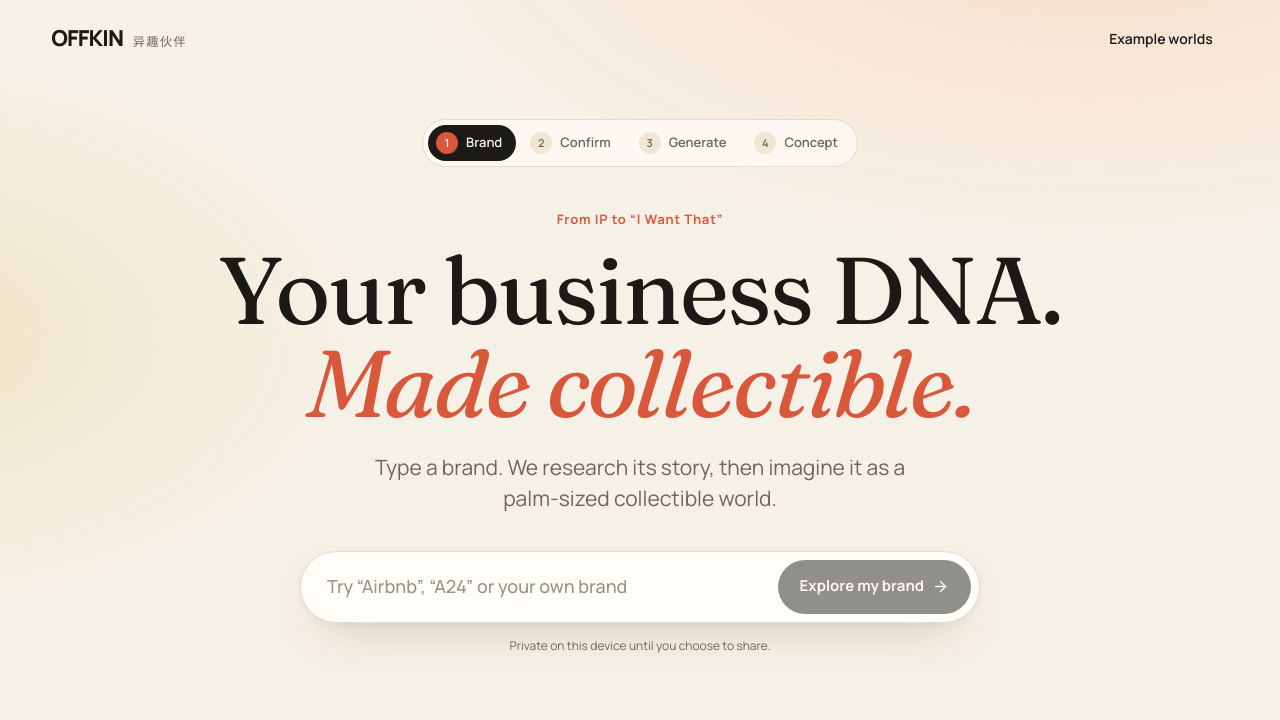
Test: Complete proposal journey › keeps Business story edits creative without silently generating
Later steps or results of the test are not shown.
Type "We create personalised paper gifts" into the text box named "Your brand, website or story". click: (547, 586)
box: top-left (327, 562), bottom-right (768, 611)
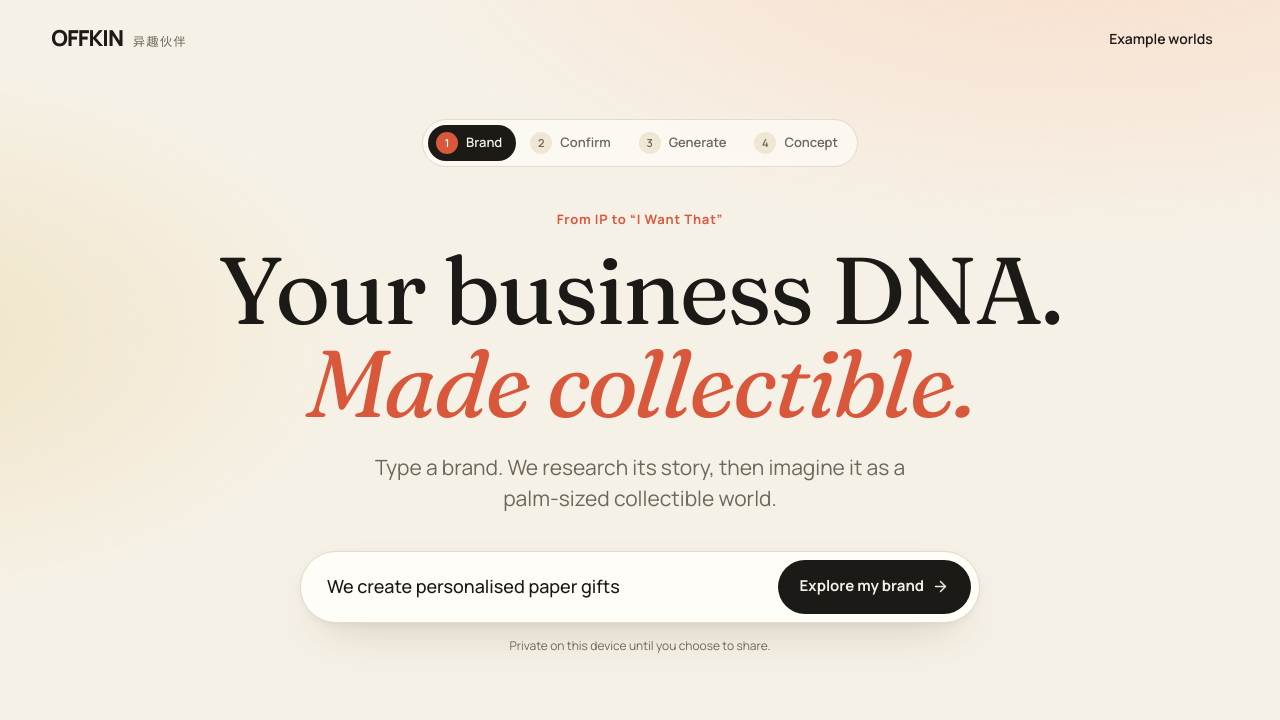
Click the button "Explore my brand". click: click(874, 586)
box: top-left (778, 560), bottom-right (971, 614)
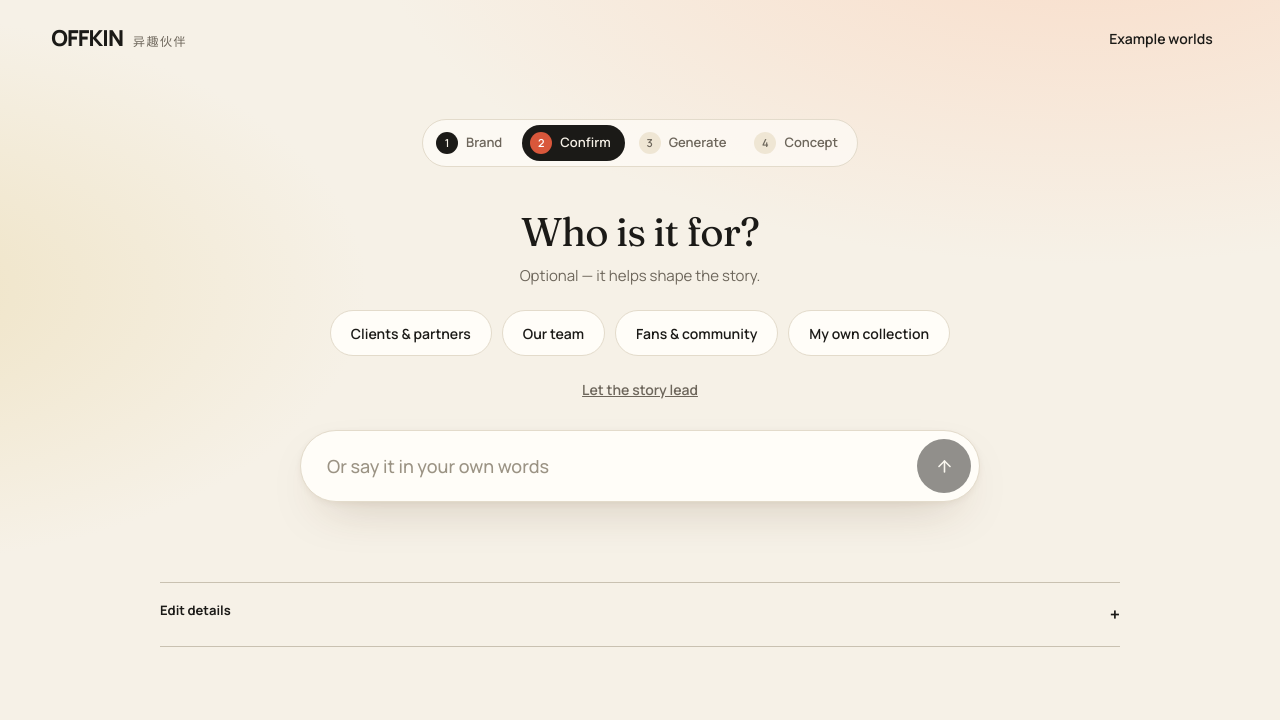
Click the button "Clients & partners". click: click(411, 333)
box: top-left (330, 310), bottom-right (492, 356)
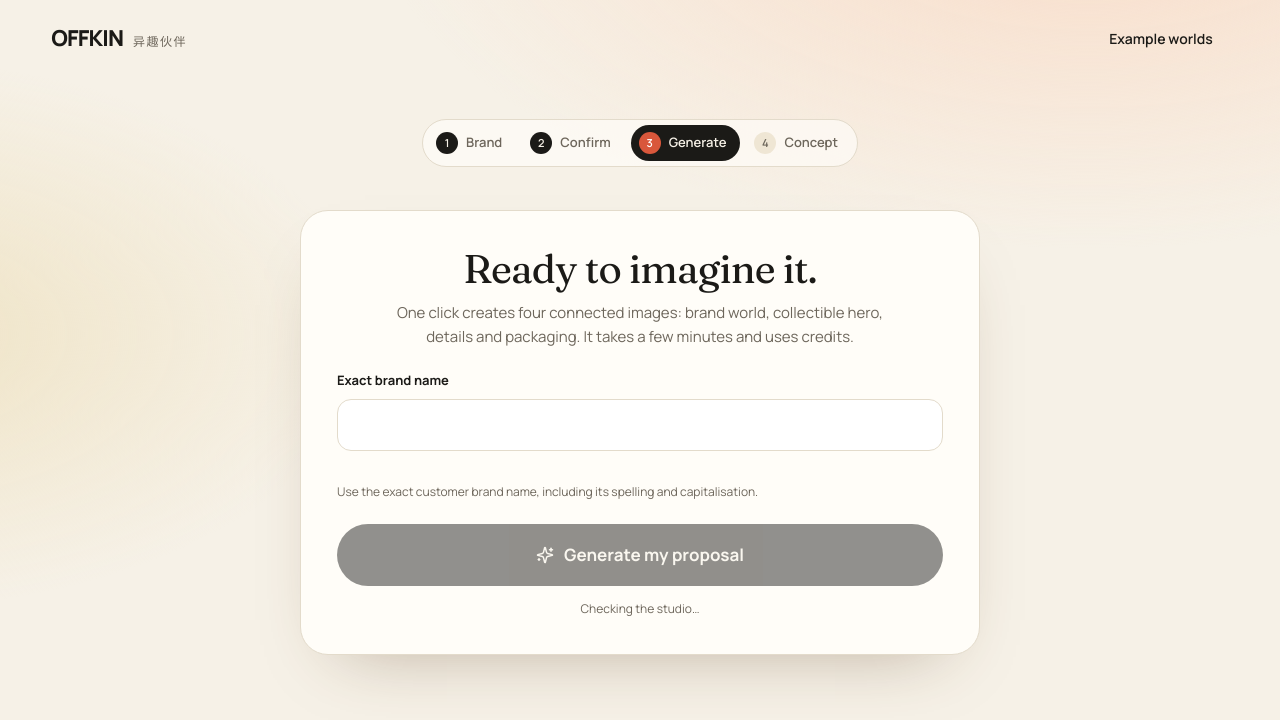
Type "Fable Finch" into the field labelled "Exact brand name". click: (640, 425)
box: top-left (337, 399), bottom-right (943, 451)
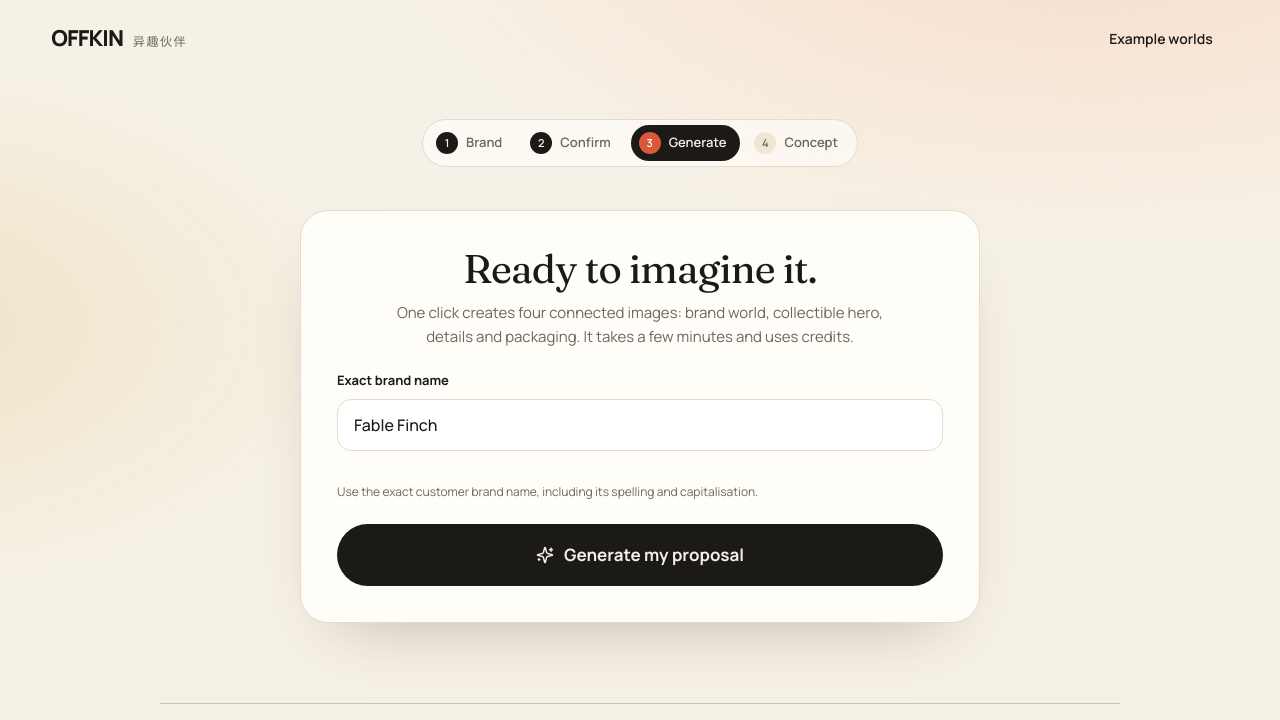
expect the button "Generate my proposal" is enabled: met, box top-left (337, 524), bottom-right (943, 586)
